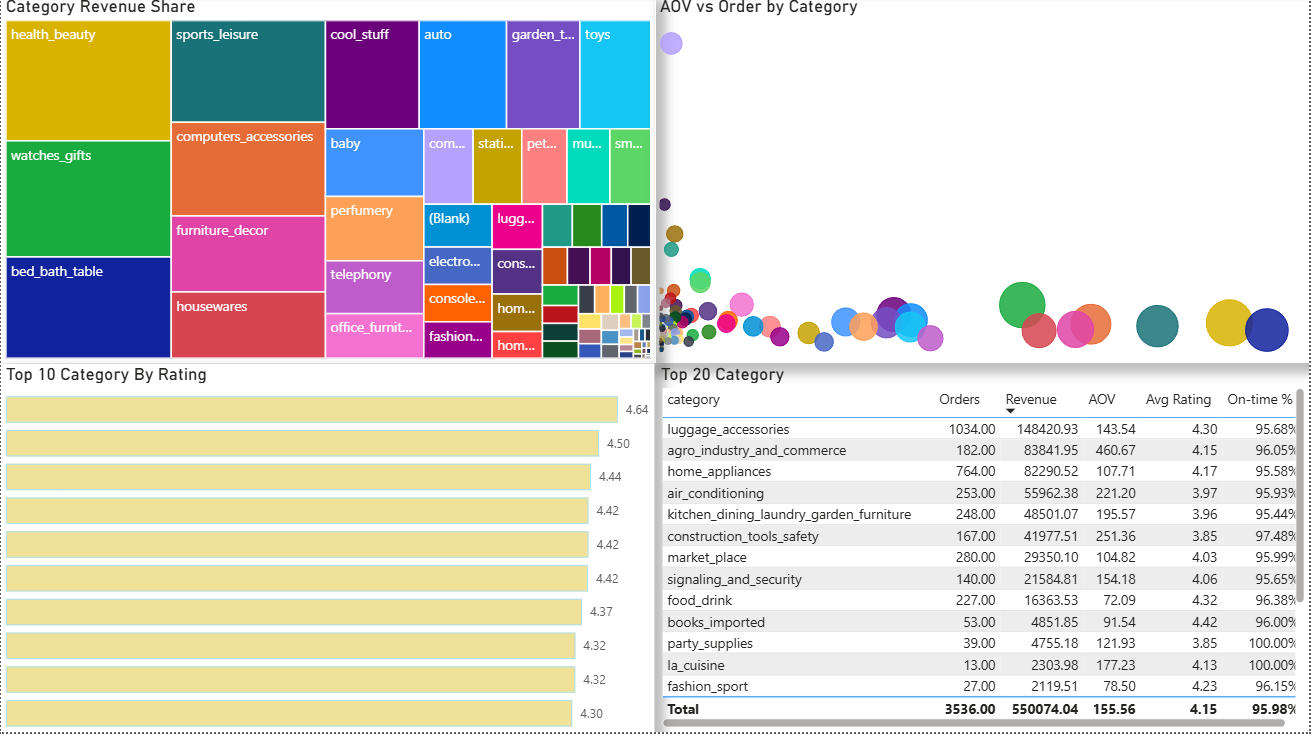

What the dashboard file says about the page in this screenshot:
{"tool":"powerbi","page":{"name":"Category & Product","canvas":[1280,720],"ordinal":2},"visuals":[{"type":"treemap","title":"Category Revenue Share","fields":{"Values":["public bi_fact_sales.Revenue"],"Group":["public bi_fact_sales.category"]},"box":[0,0,640.8,359.5],"z":0},{"type":"scatterChart","title":"AOV vs Order by Category","fields":{"X":["public bi_fact_sales.Orders"],"Y":["public bi_fact_sales.AOV"],"Series":["public bi_fact_sales.category"],"Size":["public bi_fact_sales.Revenue"]},"box":[639.5,0,640.8,359.5],"z":1000},{"type":"barChart","title":"Top 10 Category By Rating","fields":{"Category":["public bi_fact_sales.category"],"Y":["public bi_fact_sales.Avg Rating"]},"box":[0,359.5,639.5,360.9],"z":2000},{"type":"tableEx","title":"Top 20 Category","fields":{"Values":["public bi_fact_sales.category","public bi_fact_sales.Orders","public bi_fact_sales.Revenue","public bi_fact_sales.AOV","public bi_fact_sales.Avg Rating","public bi_fact_sales.On-time %"]},"box":[640.8,359.5,639.5,360.9],"z":3000}]}

Visuals, with their boxes in screenshot pixels (x1, y1, x2, y2), scaled from the page's 1280x720 canvas onto the 1314x737 screenshot:
"Category Revenue Share" treemap: {"x1": 0, "y1": 0, "x2": 658, "y2": 368}
"AOV vs Order by Category" scatterChart: {"x1": 656, "y1": 0, "x2": 1313, "y2": 368}
"Top 10 Category By Rating" barChart: {"x1": 0, "y1": 368, "x2": 656, "y2": 736}
"Top 20 Category" tableEx: {"x1": 658, "y1": 368, "x2": 1313, "y2": 736}
